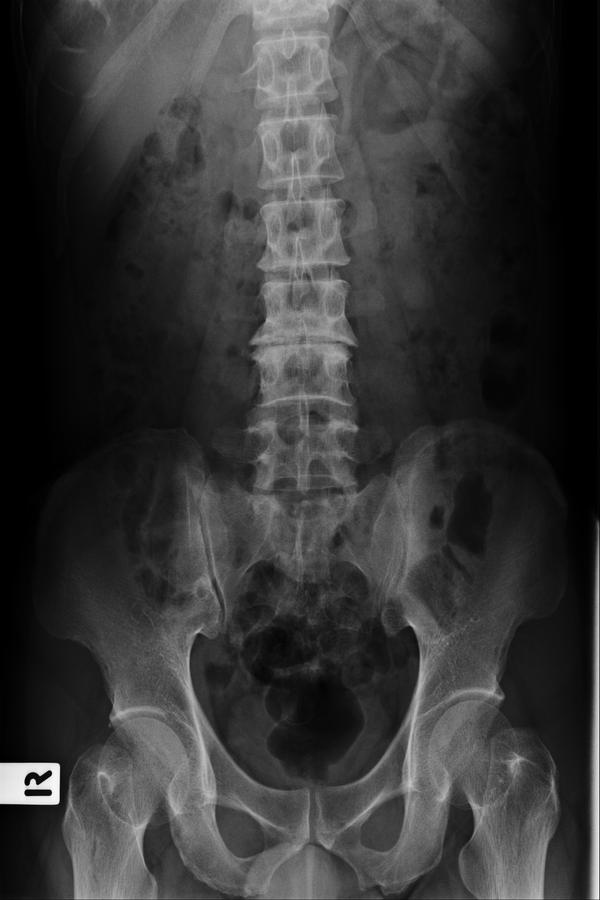not lumbar scoliosis: (247, 201, 370, 523)
